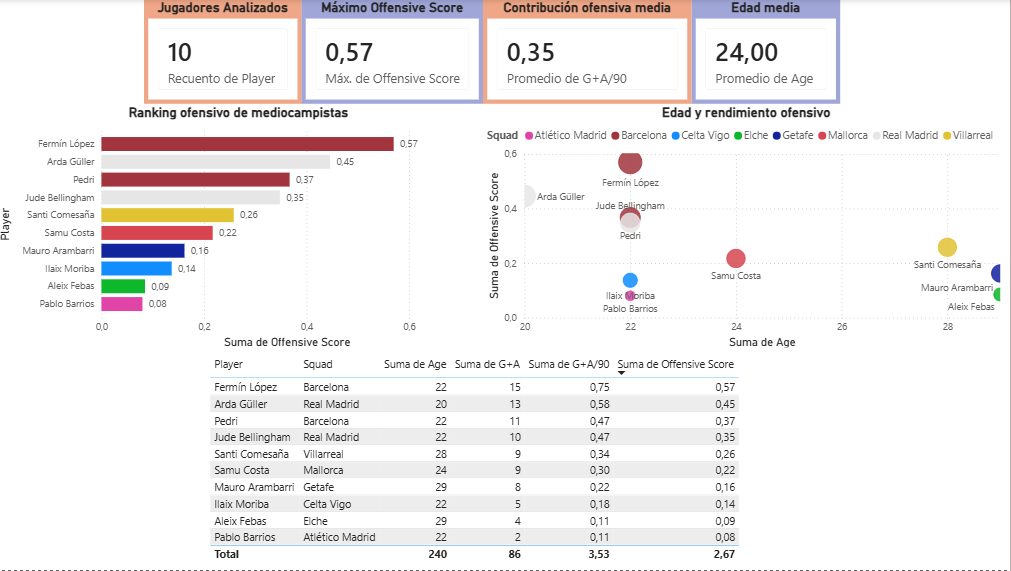

The page's visual inventory and layout, read from the dashboard file:
{"tool":"powerbi","page":{"name":"Página 1","canvas":[1280,720],"ordinal":0},"visuals":[{"type":"cardVisual","title":"Jugadores Analizados","fields":{"Data":["Count(Sheet1.Player)"]},"box":[189,0,198.4,132.3],"z":0},{"type":"cardVisual","title":"Máximo Offensive Score","fields":{"Data":["Max(Sheet1.Offensive Score)"]},"box":[387.4,0,228.7,132.3],"z":1},{"type":"cardVisual","title":"Edad media","fields":{"Data":["Avg(Sheet1.Age)"]},"box":[878.7,0,187.1,132.3],"z":2},{"type":"cardVisual","title":"Contribución ofensiva media","fields":{"Data":["Avg(Sheet1.G+A/90)"]},"box":[616.1,0,262.7,132.3],"z":3},{"type":"clusteredBarChart","title":"Ranking ofensivo de mediocampistas","fields":{"Category":["Sheet1.Player"],"Y":["Sum(Sheet1.Offensive Score)"]},"box":[0,132.3,616.1,311.8],"z":4},{"type":"scatterChart","title":"Edad y rendimiento ofensivo","fields":{"X":["Sum(Sheet1.Age)"],"Series":["Sheet1.Squad"],"Size":["Sum(Sheet1.G+A)"],"Y":["Sum(Sheet1.Offensive Score)"],"Category":["Sheet1.Player"]},"box":[616.1,132.3,663.3,311.8],"z":5},{"type":"tableEx","fields":{"Values":["Sheet1.Player","Sheet1.Squad","Sum(Sheet1.Age)","Sum(Sheet1.G+A)","Sum(Sheet1.G+A/90)","Sum(Sheet1.Offensive Score)"]},"box":[253.2,444.1,725.7,275.9],"z":6}]}

Visuals, with their boxes in screenshot pixels (x1, y1, x2, y2), scaled from the page's 1280x720 canvas onto the 1011x571 screenshot:
"Jugadores Analizados" cardVisual: box(149, 0, 306, 105)
"Máximo Offensive Score" cardVisual: box(306, 0, 487, 105)
"Edad media" cardVisual: box(694, 0, 842, 105)
"Contribución ofensiva media" cardVisual: box(487, 0, 694, 105)
"Ranking ofensivo de mediocampistas" clusteredBarChart: box(0, 105, 487, 352)
"Edad y rendimiento ofensivo" scatterChart: box(487, 105, 1010, 352)
tableEx - Sheet1.Player x Sheet1.Squad: box(200, 352, 773, 570)
